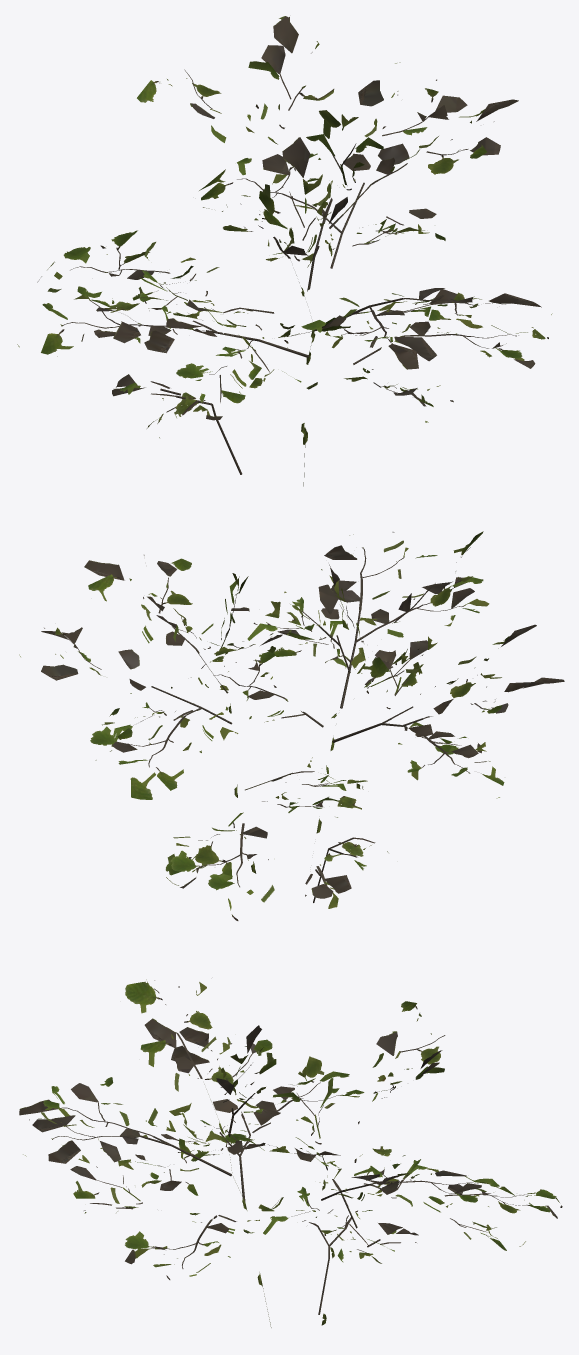
The model's file is SM_BlackAlder_Sapling_05_PP_LOD2.gltf.
The picture shows the model from 3 angles, top to bottom: view 1: azimuth 30°, elevation 25°; view 2: azimuth 150°, elevation 25°; view 3: azimuth 270°, elevation 25°; orthographic projection. The views are drawn at different scales.
Parts seen in each view (by area): view 1: SM_BlackAlder_Sapling_05_PP; view 2: SM_BlackAlder_Sapling_05_PP; view 3: SM_BlackAlder_Sapling_05_PP.
Boxes of the visible parts, box(x1,y1,x2,y2) form: SM_BlackAlder_Sapling_05_PP: box(17, 16, 552, 486); SM_BlackAlder_Sapling_05_PP: box(19, 531, 564, 920); SM_BlackAlder_Sapling_05_PP: box(19, 979, 562, 1327).
Bounding box in the file's own units: 1.36 × 1.03 × 1.61.
Materials: 1 (1 with a texture image).
